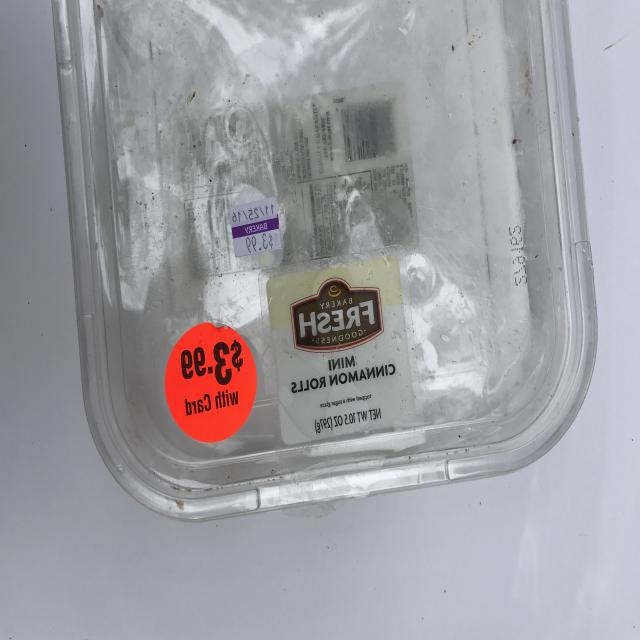plastic: (53, 0, 598, 521)
